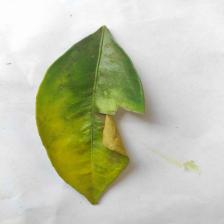black spot: (95, 109, 131, 157)
